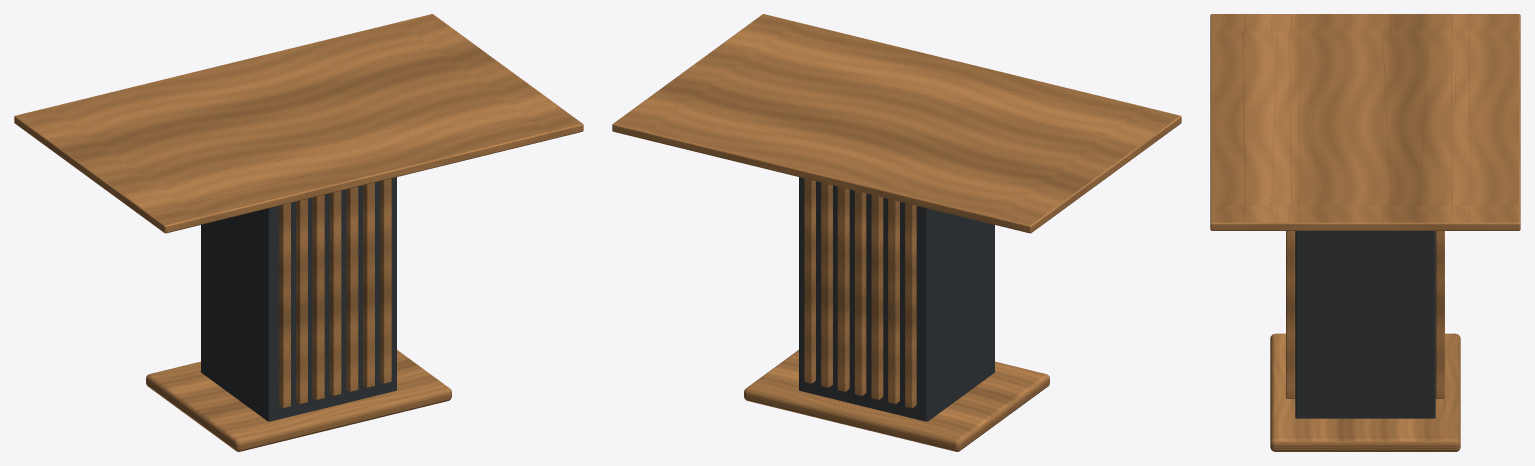
The model's file is table-03-slat-pedestal.glb.
The picture shows the model from 3 angles, left to right: view 1: azimuth 30°, elevation 25°; view 2: azimuth 150°, elevation 25°; view 3: azimuth 270°, elevation 25°; orthographic projection. The views are drawn at different scales.
Parts seen in each view (by area): view 1: TableTop, Pedestal_Core, Base_Plinth, Slat_Front_05, Slat_Front_04, Slat_Front_03, Slat_Front_01, Slat_Front_06, Slat_Front_07, Slat_Front_02; view 2: TableTop, Pedestal_Core, Base_Plinth, Slat_Back_05, Slat_Back_04, Slat_Back_03, Slat_Back_01, Slat_Back_06, Slat_Back_07, Slat_Back_02; view 3: TableTop, Pedestal_Core, Base_Plinth, Slat_Front_07, Slat_Back_07.
Boxes of the visible parts, x1,y1,x2,y2 form: TableTop: (14,14,583,233); Pedestal_Core: (201,177,396,421); Base_Plinth: (146,350,451,451); Slat_Front_05: (346,186,358,391); Slat_Front_04: (329,191,341,395); Slat_Front_03: (312,195,324,399); Slat_Front_01: (279,203,290,408); Slat_Front_06: (363,182,374,387); Slat_Front_07: (380,178,391,383); Slat_Front_02: (296,199,307,404); TableTop: (612,14,1181,233); Pedestal_Core: (799,177,994,421); Base_Plinth: (744,350,1049,451); Slat_Back_05: (837,186,849,391); Slat_Back_04: (854,191,866,395); Slat_Back_03: (871,195,883,399); Slat_Back_01: (905,203,916,408); Slat_Back_06: (821,182,832,387); Slat_Back_07: (804,178,815,383); Slat_Back_02: (888,199,899,404); TableTop: (1210,14,1520,230); Pedestal_Core: (1295,231,1435,418); Base_Plinth: (1270,333,1460,451); Slat_Front_07: (1286,231,1295,398); Slat_Back_07: (1435,231,1444,398).
Bounding box in the file's own units: 1.2 × 0.75 × 0.75.
7 materials, 6 textured.
